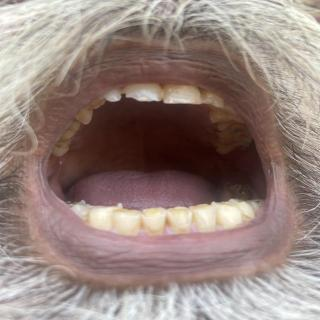stains: (136, 216, 156, 238), (161, 212, 181, 233), (188, 210, 202, 232), (236, 211, 254, 224)
